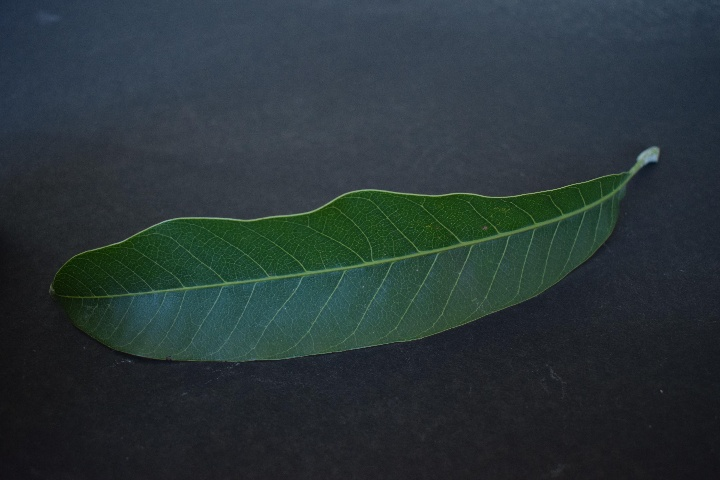healthy: (63, 170, 632, 356)
